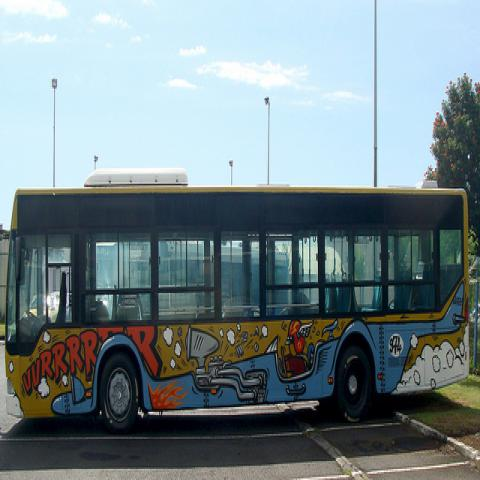bus: (6, 169, 470, 434)
